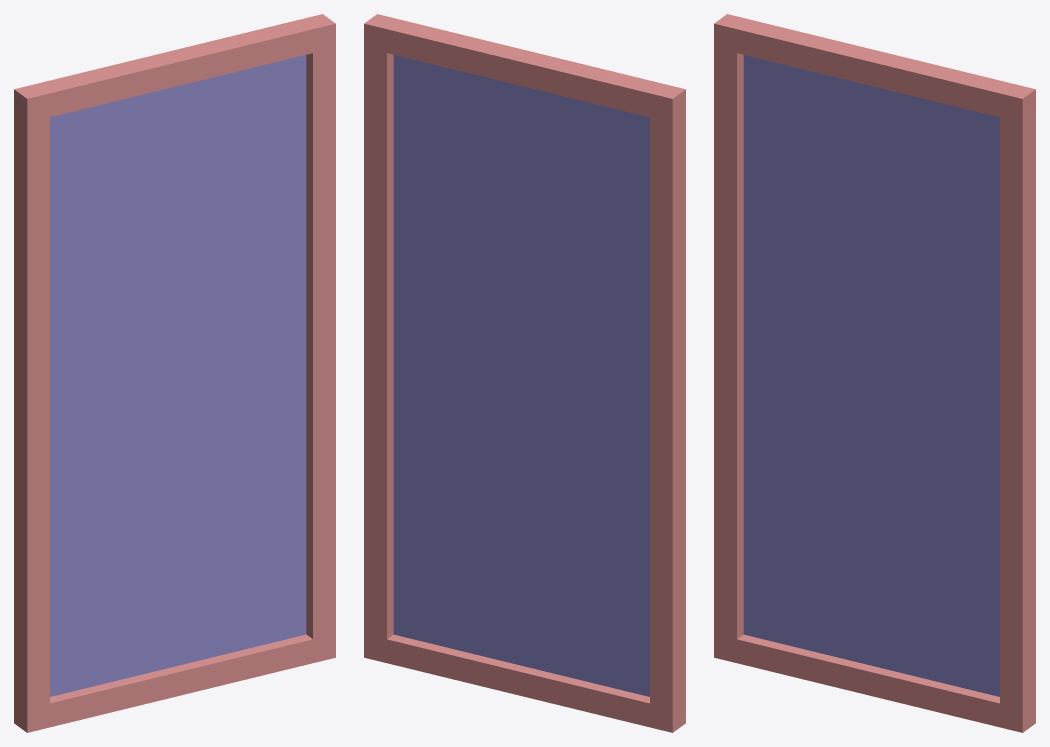
Rendered from window.FBX.
3 views of the same model, side by side, from view 1: azimuth 30°, elevation 25°; view 2: azimuth 150°, elevation 25°; view 3: azimuth 330°, elevation 25° (orthographic).
Visible parts, largest first — view 1: Box004; view 2: Box004; view 3: Box004.
Boxes of the visible parts, left/top/right/bottom form: Box004: left=14, top=14, right=335, bottom=732; Box004: left=364, top=14, right=685, bottom=732; Box004: left=714, top=14, right=1035, bottom=732.
Size of the model in its own units: 1.08 by 2.12 by 0.08.
